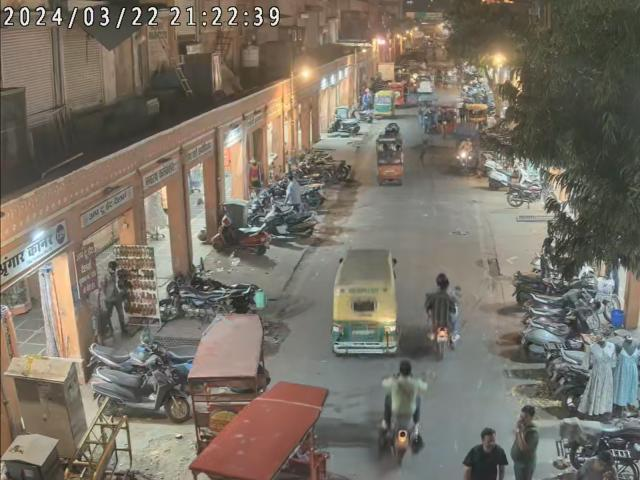auto: (186, 382, 362, 478), (190, 307, 270, 449), (328, 243, 404, 362), (372, 121, 404, 186), (417, 92, 452, 140), (452, 122, 481, 179), (372, 90, 396, 121)
car: (4, 432, 70, 479)
motorbike: (555, 415, 639, 480)
motorbike-rider: (380, 356, 432, 466), (424, 276, 462, 359)
person: (461, 428, 511, 479)
scooty: (89, 366, 192, 422), (212, 214, 268, 257), (260, 202, 320, 242), (485, 162, 536, 192)
